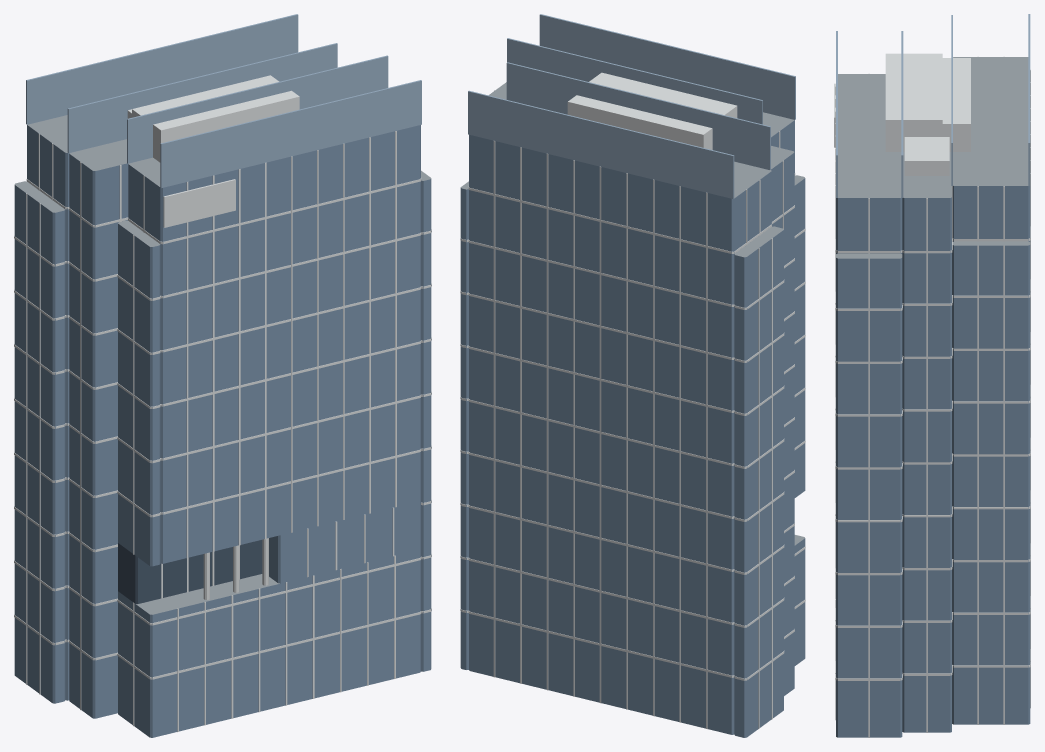
The model's file is nash-bridgestone-tower.glb.
The picture shows the model from 3 angles, left to right: view 1: azimuth 30°, elevation 25°; view 2: azimuth 150°, elevation 25°; view 3: azimuth 270°, elevation 25°; orthographic projection. The views are drawn at different scales.
Visible parts, largest first — view 1: Bridgestone Tower; view 2: Bridgestone Tower; view 3: Bridgestone Tower.
Boxes of the visible parts, x1,y1,x2,y2 form: Bridgestone Tower: (14,14,431,737); Bridgestone Tower: (460,14,805,737); Bridgestone Tower: (834,14,1030,737).
Bounding box in the file's own units: 76.24 × 134 × 41.52.
